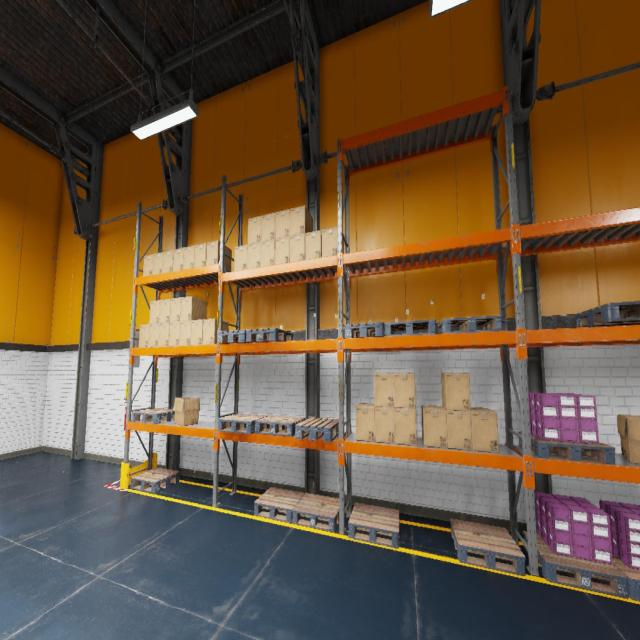box: (442, 406, 472, 451), (471, 407, 498, 453), (441, 372, 471, 411), (617, 414, 640, 464), (422, 405, 448, 448), (394, 408, 416, 446), (173, 397, 200, 426), (355, 403, 375, 441), (206, 240, 231, 270), (394, 373, 415, 408), (375, 407, 395, 443), (374, 372, 394, 408), (202, 318, 229, 344), (290, 206, 313, 236), (180, 296, 207, 321), (322, 227, 344, 257), (305, 230, 321, 259), (275, 209, 290, 239), (261, 212, 275, 242), (290, 233, 304, 262), (260, 239, 274, 267), (275, 237, 289, 264), (248, 216, 261, 244), (247, 242, 261, 268), (235, 244, 248, 271), (190, 319, 203, 345), (179, 320, 191, 346), (194, 243, 206, 267), (183, 245, 195, 269), (172, 248, 184, 271), (158, 322, 169, 347), (170, 297, 181, 322), (169, 322, 180, 346), (149, 300, 160, 324), (148, 324, 159, 347), (162, 250, 173, 273), (152, 252, 163, 274), (160, 299, 170, 323), (139, 324, 149, 347), (143, 254, 153, 276)
pallets: (523, 531, 628, 598), (450, 519, 526, 576), (518, 432, 616, 464), (348, 503, 399, 548), (254, 487, 305, 523), (292, 493, 339, 532), (575, 301, 640, 327), (612, 553, 640, 601), (437, 315, 503, 334), (130, 468, 180, 493), (296, 417, 338, 442), (218, 414, 268, 434), (255, 416, 305, 436), (384, 319, 436, 336), (132, 408, 175, 424), (246, 328, 293, 342), (344, 322, 384, 338), (218, 329, 255, 344)
